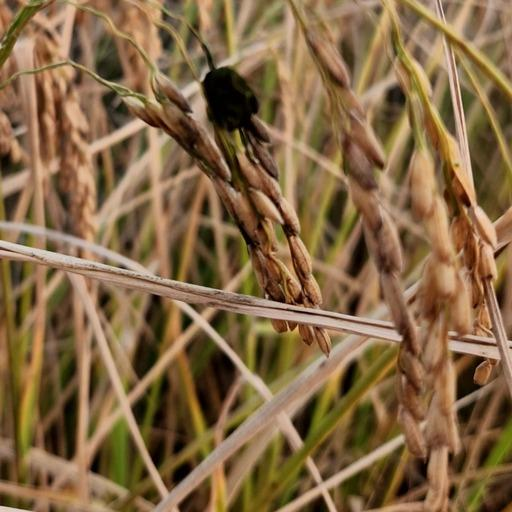Leaf_Scald: (189, 52, 273, 128)
